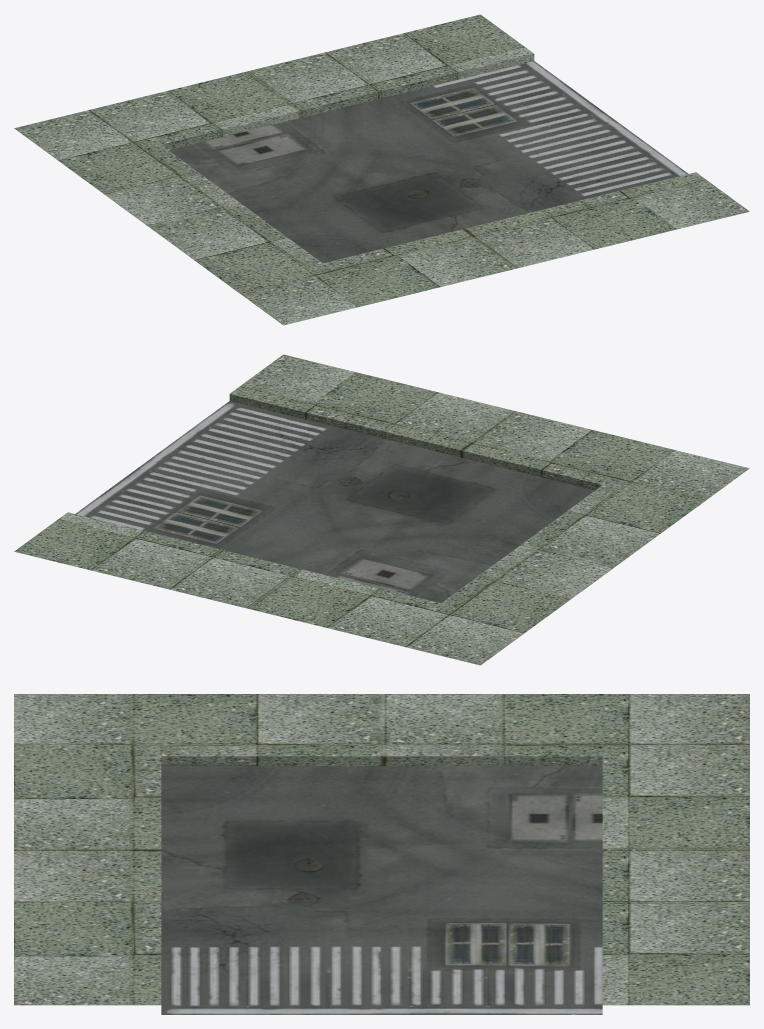
The model's file is roadblock E.FBX.
3 views of the same model, one above another, from view 1: azimuth 30°, elevation 25°; view 2: azimuth 150°, elevation 25°; view 3: azimuth 270°, elevation 25° (orthographic). The views are drawn at different scales.
Parts seen in each view (by area): view 1: Box001; view 2: Box001; view 3: Box001.
Boxes of the visible parts, x1,y1,x2,y2 form: Box001: (14, 14, 749, 325); Box001: (14, 354, 749, 665); Box001: (14, 694, 749, 1014).
Size of the model in its own units: 40 by 0.5824 by 40.
